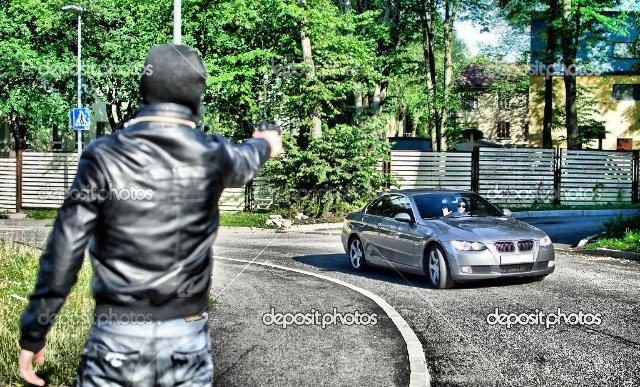pistol: (246, 115, 296, 165)
